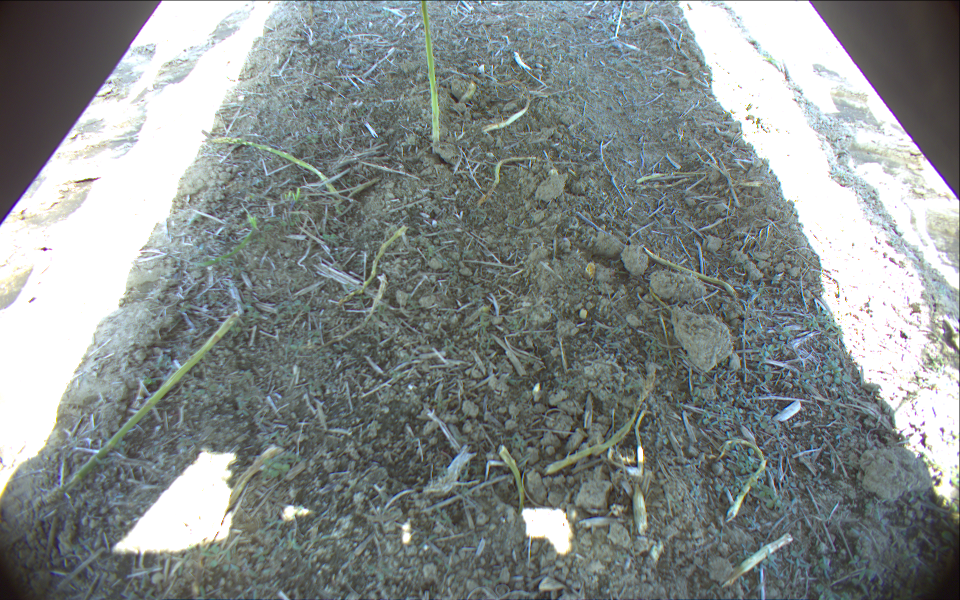aspa: (38, 311, 239, 508), (546, 365, 655, 475), (209, 135, 336, 197), (336, 224, 408, 308), (640, 245, 737, 296), (717, 437, 768, 522), (719, 534, 793, 589), (478, 155, 547, 205), (420, 1, 440, 155), (500, 443, 527, 511), (636, 166, 720, 182), (629, 482, 649, 535), (458, 80, 476, 108), (616, 1, 628, 39)
